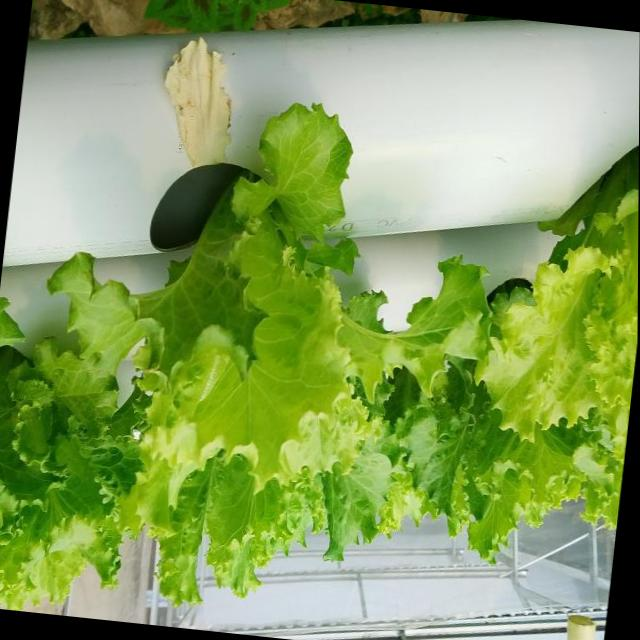Baby: (33, 104, 488, 561), (474, 146, 639, 464), (166, 39, 230, 165)
